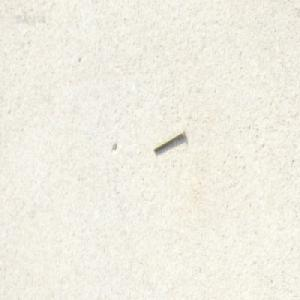Bolt: (152, 127, 185, 152)
